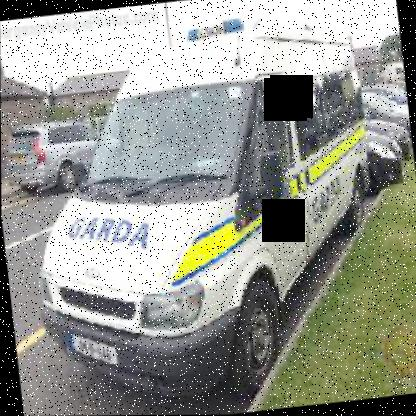emergency: (16, 13, 407, 377)
